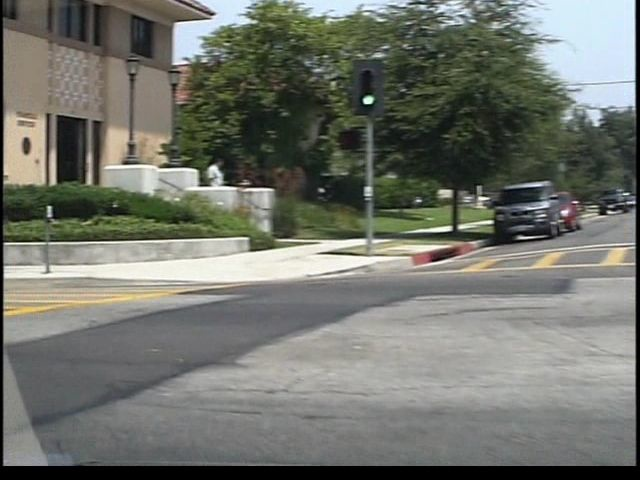person: (194, 151, 217, 220)
